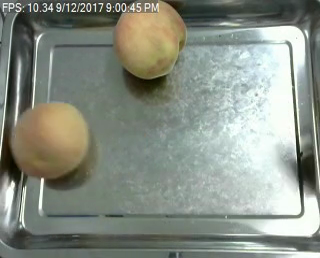Peach: (9, 101, 90, 179), (112, 0, 187, 79)
